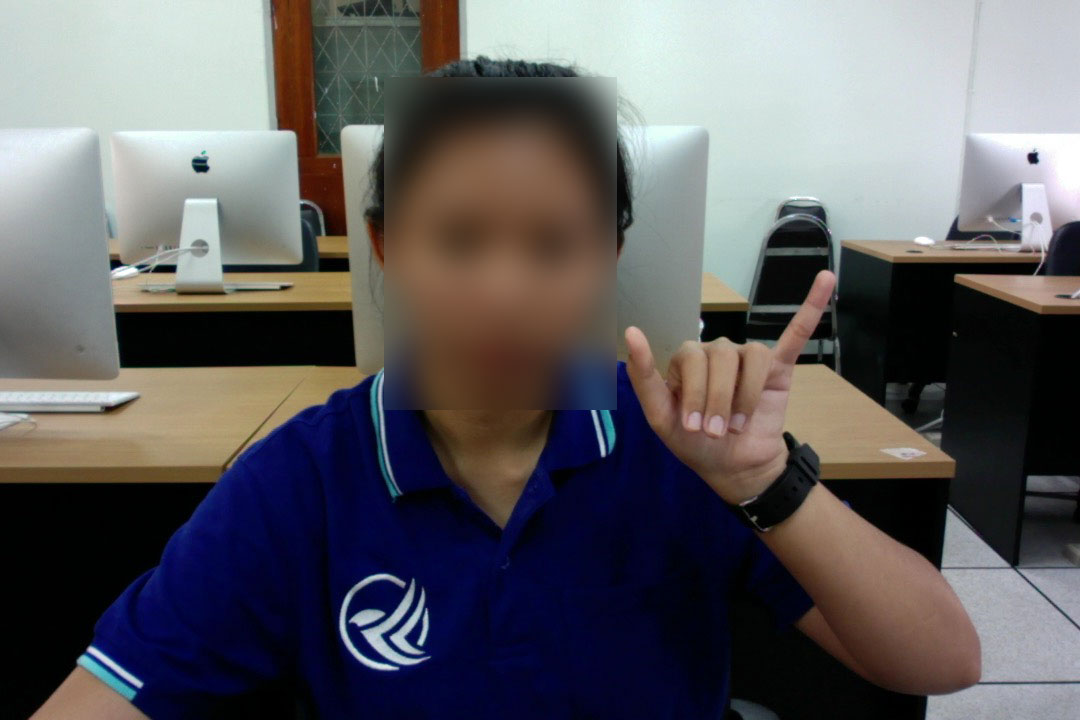yor: (617, 260, 844, 512)
